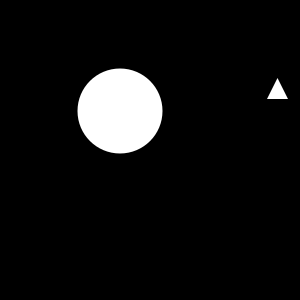rectangle: (78, 68, 163, 154)
triangle: (267, 78, 288, 99)
